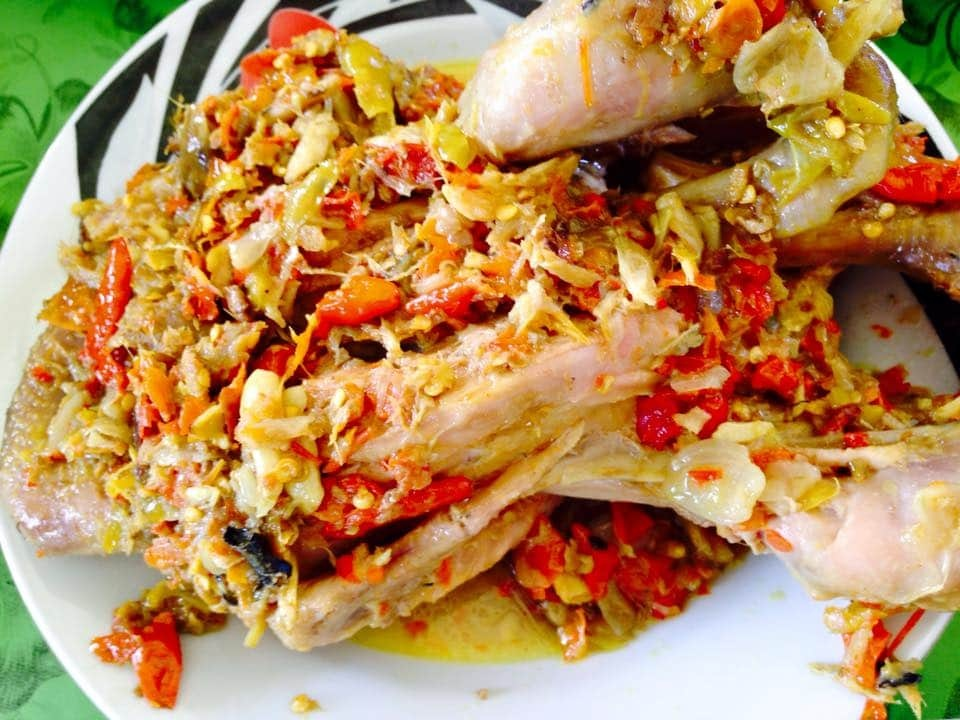ayam_betutu: (1, 31, 960, 653)
